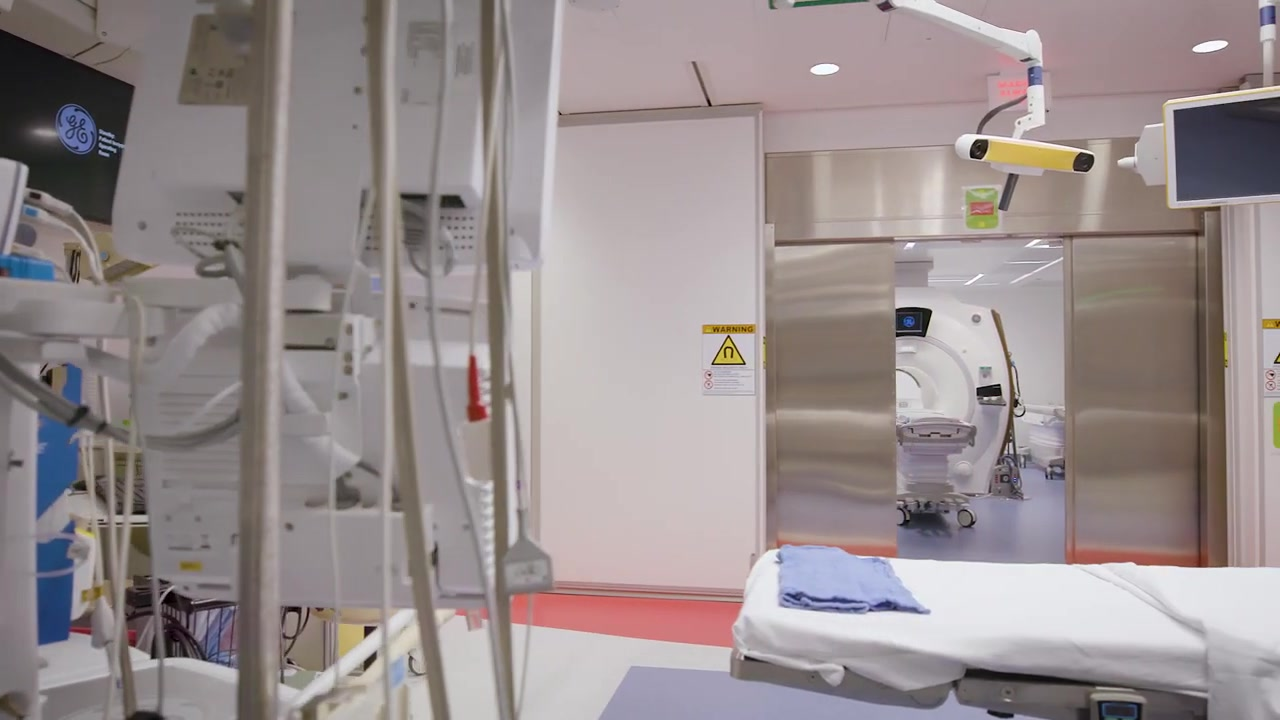TV: (1, 26, 136, 231)
bedside_monitor: (130, 288, 514, 594), (164, 1, 582, 274), (1163, 81, 1280, 218)
operating_bed: (727, 544, 1280, 717)
xray_bed: (896, 408, 978, 526), (1015, 403, 1065, 480)
xray_machine: (896, 303, 1011, 475)
